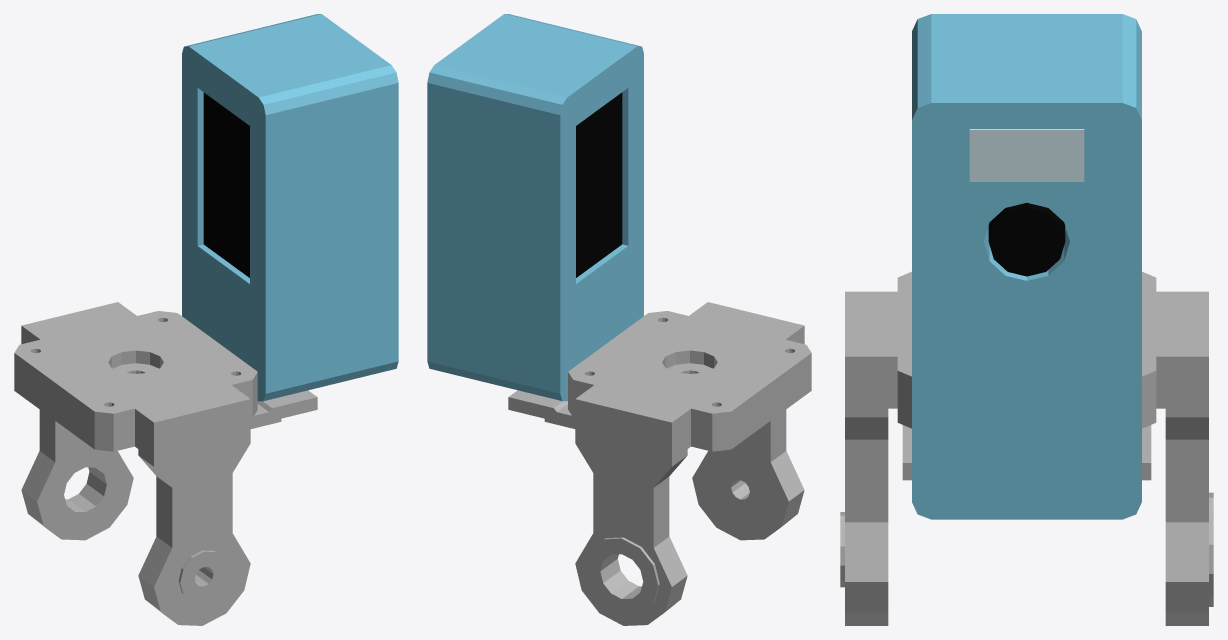
Rendered from head-leye-y_mesh.glb.
3 renders of one model, left to right at view 1: azimuth 30°, elevation 25°; view 2: azimuth 150°, elevation 25°; view 3: azimuth 270°, elevation 25°, orthographic. The views are drawn at different scales.
Parts seen in each view (by area): view 1: base2_M1KShape4, base2_M1KShape1, base2_M1KShape0, base2_M1KShape2, base2_M1KShape5, base2_M1KShape3; view 2: base2_M1KShape4, base2_M1KShape2, base2_M1KShape0, base2_M1KShape1, base2_M1KShape5, base2_M1KShape3; view 3: base2_M1KShape4, base2_M1KShape2, base2_M1KShape1, base2_M1KShape7, base2_M1KShape0, base2_M1KShape6, base2_M1KShape3.
Part boxes in pixels (x1=…): base2_M1KShape4: x1=182, y1=14, x2=398, y2=401; base2_M1KShape1: x1=135, y1=385, x2=250, y2=625; base2_M1KShape0: x1=14, y1=311, x2=257, y2=451; base2_M1KShape2: x1=21, y1=302, x2=136, y2=540; base2_M1KShape5: x1=203, y1=92, x2=249, y2=277; base2_M1KShape3: x1=250, y1=390, x2=317, y2=428; base2_M1KShape4: x1=427, y1=14, x2=643, y2=401; base2_M1KShape2: x1=575, y1=385, x2=690, y2=625; base2_M1KShape0: x1=568, y1=311, x2=811, y2=451; base2_M1KShape1: x1=689, y1=302, x2=804, y2=540; base2_M1KShape5: x1=576, y1=92, x2=622, y2=277; base2_M1KShape3: x1=508, y1=390, x2=575, y2=428; base2_M1KShape4: x1=912, y1=14, x2=1141, y2=519; base2_M1KShape2: x1=1156, y1=291, x2=1213, y2=625; base2_M1KShape1: x1=840, y1=291, x2=897, y2=625; base2_M1KShape7: x1=969, y1=129, x2=1084, y2=181; base2_M1KShape0: x1=897, y1=271, x2=1156, y2=428; base2_M1KShape6: x1=988, y1=202, x2=1065, y2=276; base2_M1KShape3: x1=902, y1=425, x2=1151, y2=480.
Bounding box in the file's own units: 0.0502 × 0.0765 × 0.039.
